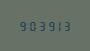nine: (17, 20, 25, 31), (45, 20, 53, 31)
one: (54, 20, 62, 31)
three: (36, 20, 44, 31), (63, 20, 71, 31)
zero: (26, 20, 34, 31)
